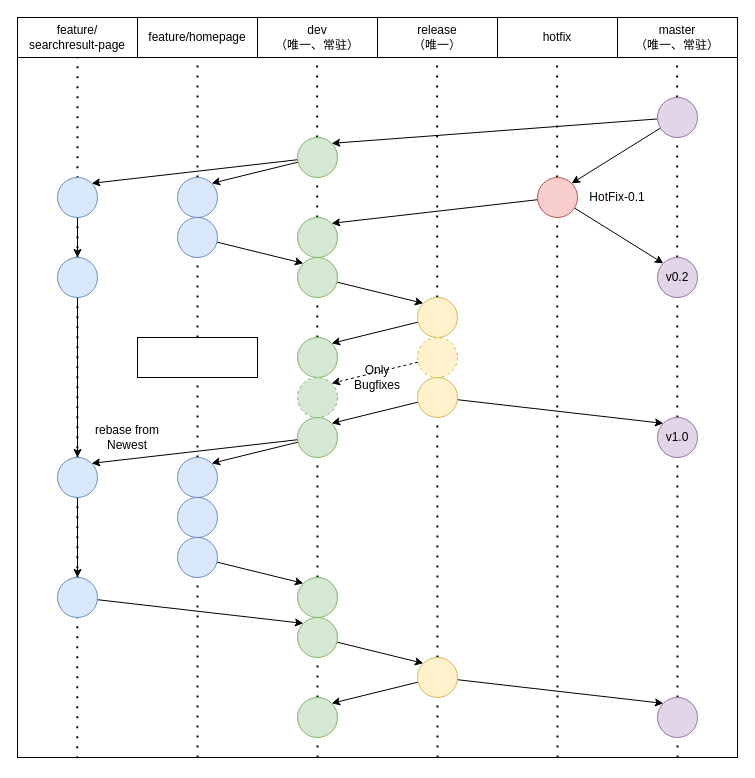
This 755x778 diagram has some shape labels left out. Each missing label, with the centre of its shape:
"feature/personalpage" goes at point (197, 357).
"v0.1" goes at point (677, 117).
"v2.0" goes at point (677, 717).
